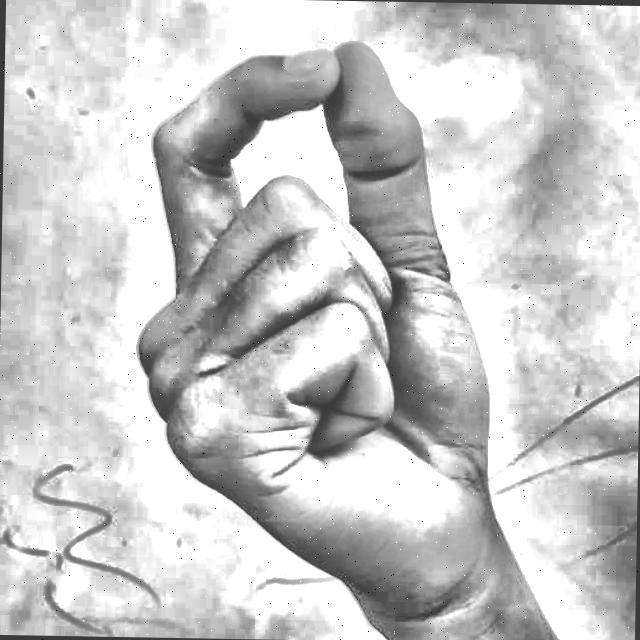Gha: (85, 17, 571, 640)
